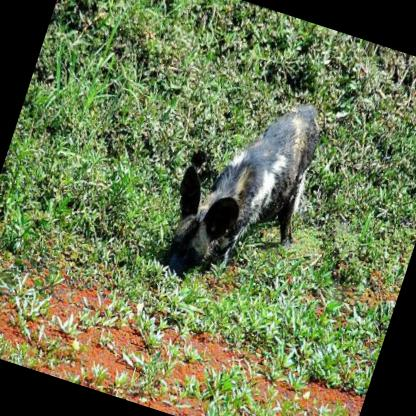African_hunting_dog: (149, 67, 340, 310)
